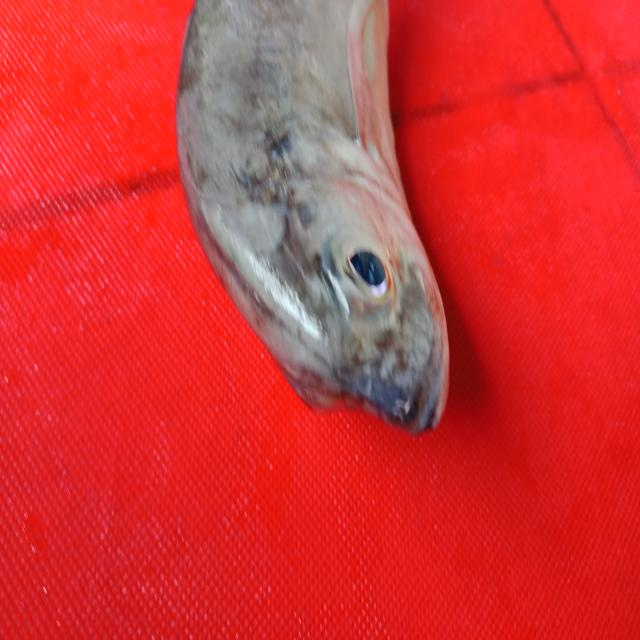ikan: (161, 6, 461, 442)
